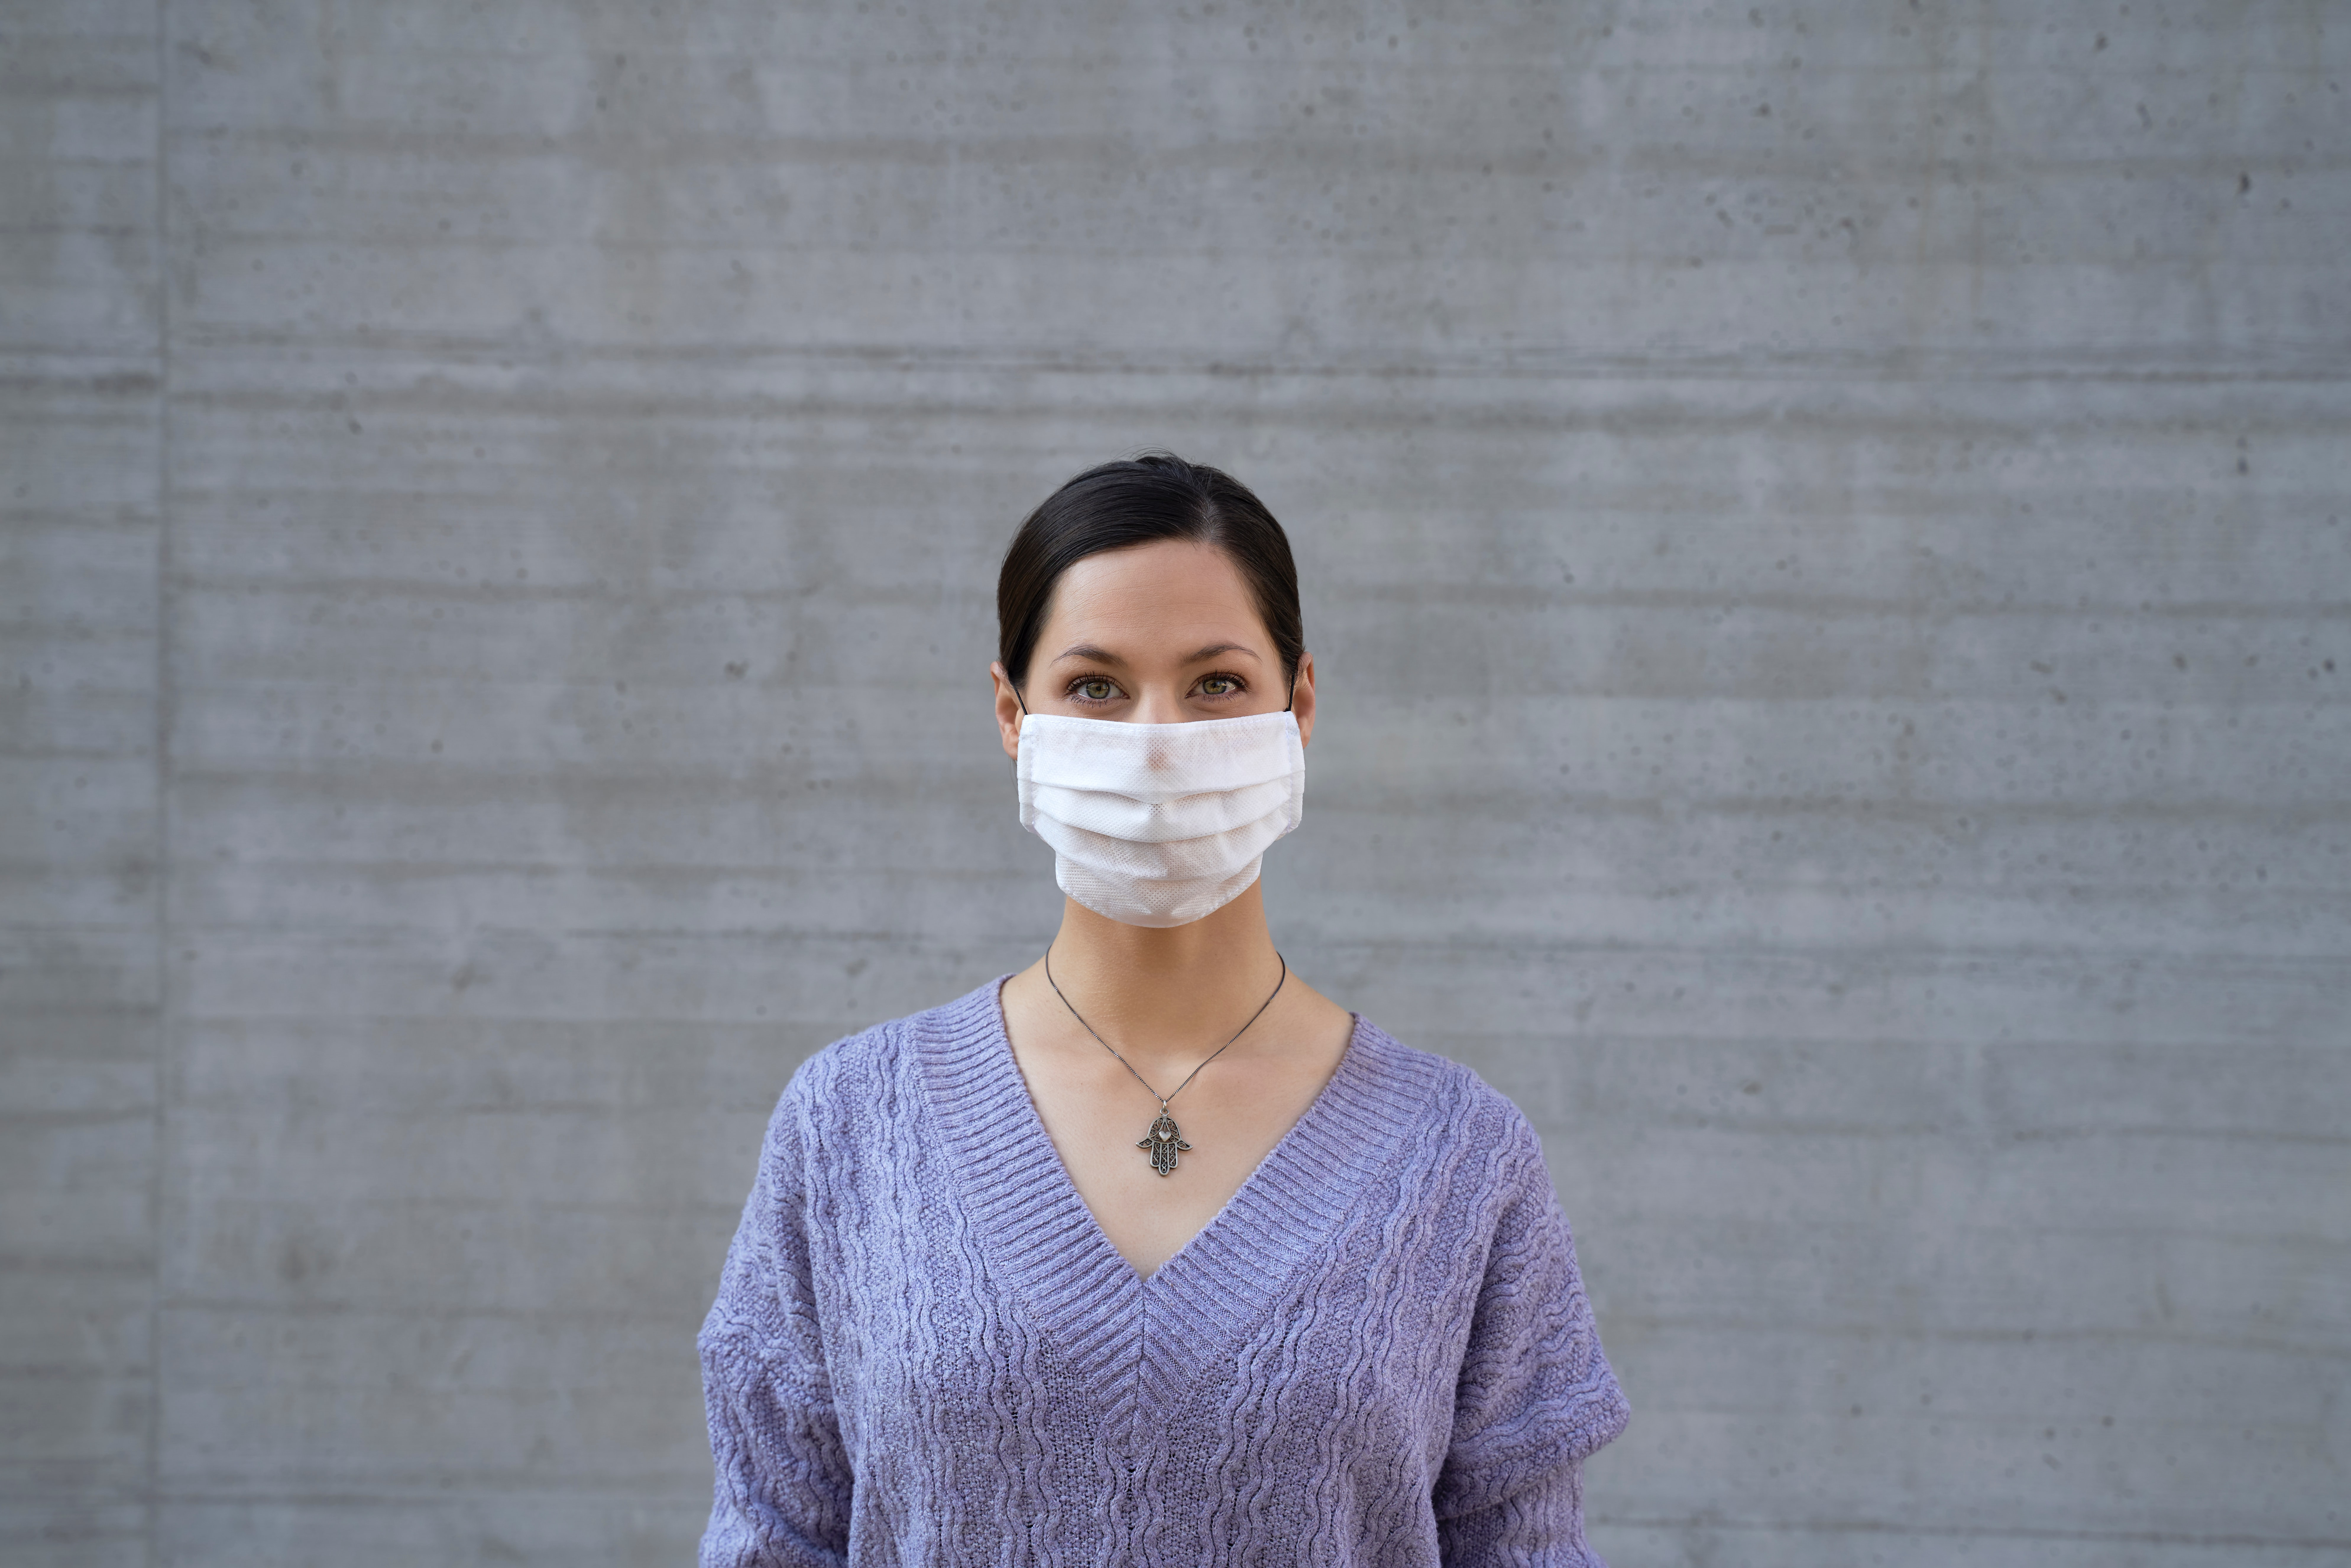mask: (1005, 699, 1327, 943)
person: (653, 427, 1645, 1568)
